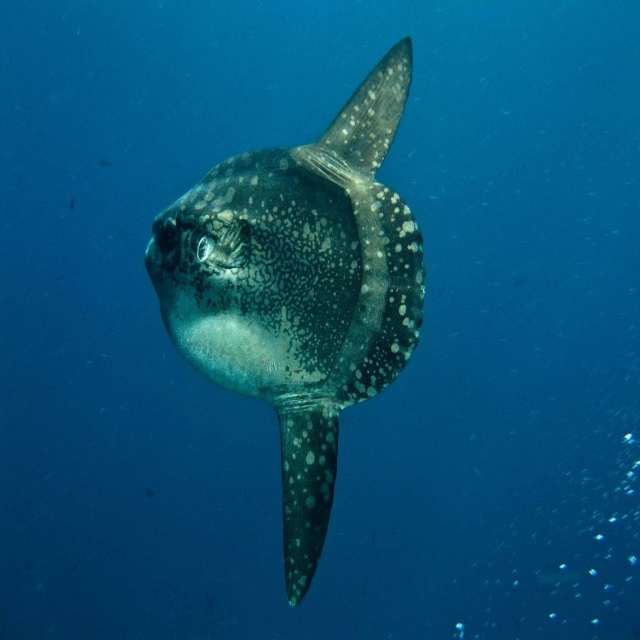Shark: (145, 36, 426, 608)
